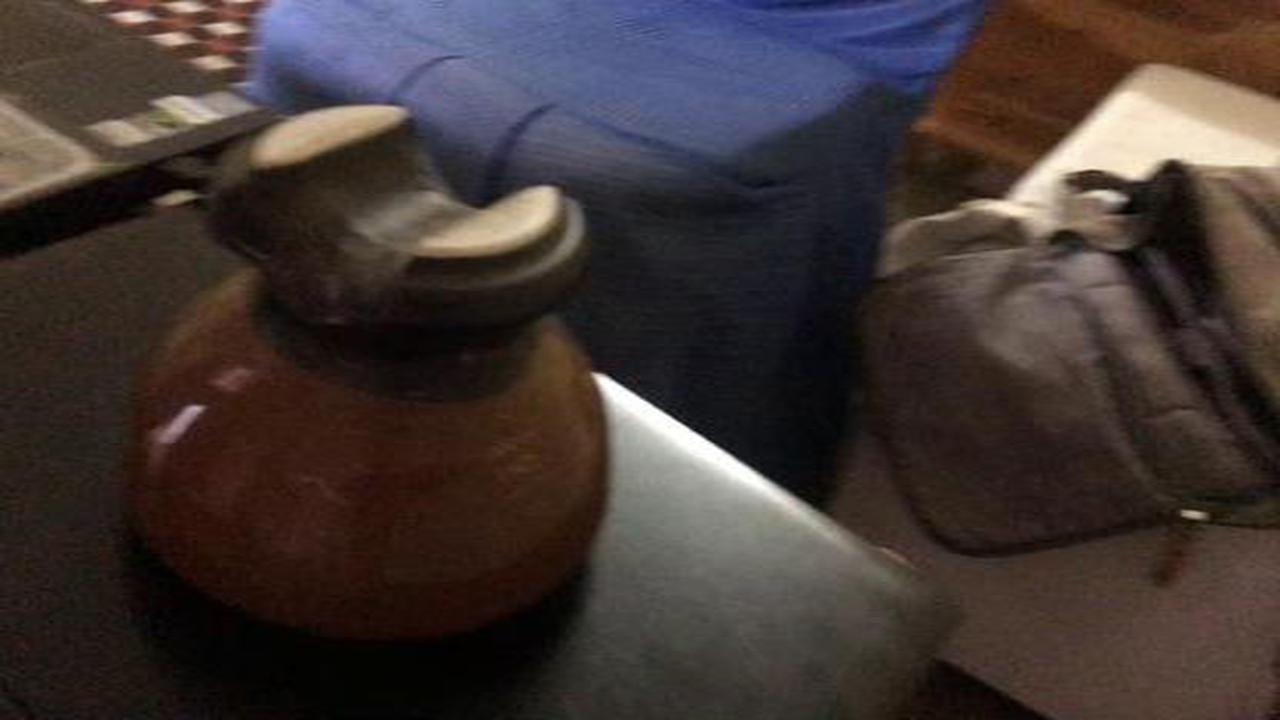insulator_pin: (114, 92, 625, 662)
